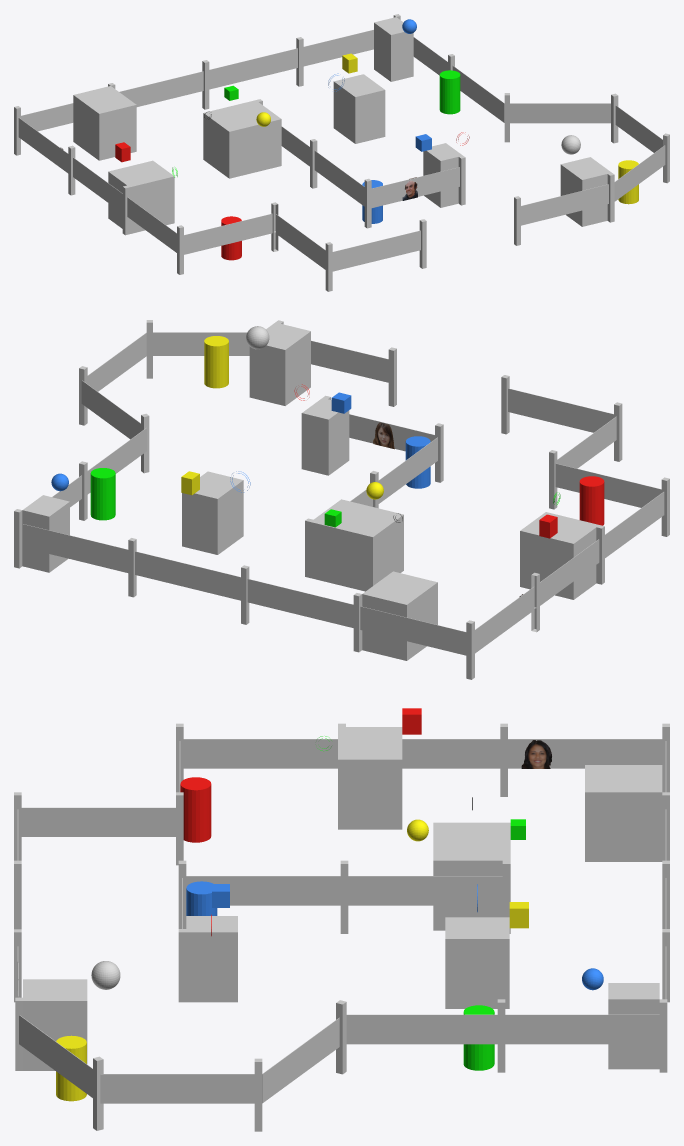
The model's file is rins_task1_p2.dae.
The picture shows the model from 3 angles, top to bottom: view 1: azimuth 30°, elevation 25°; view 2: azimuth 150°, elevation 25°; view 3: azimuth 270°, elevation 25°; orthographic projection. The views are drawn at different scales.
Parts seen in each view (by area): view 1: SketchUp (×24); view 2: SketchUp (×25); view 3: SketchUp (×24).
Boxes of the visible parts, x1,y1,x2,y2 form: SketchUp (×24): (14,14,669,291); SketchUp (×25): (14,320,669,679); SketchUp (×24): (15,723,669,1131).
Size of the model in its own units: 245 by 201 by 33.48.
9 materials, 3 textured.
